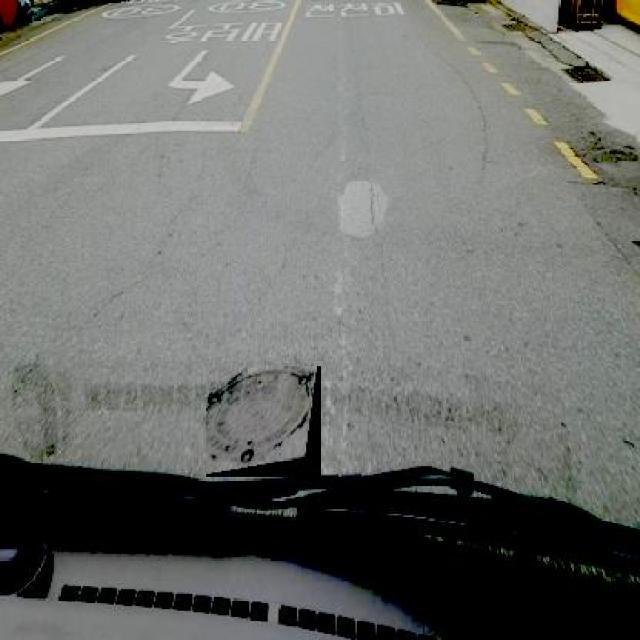Manhole: (207, 366, 321, 477)
Pothole: (0, 361, 75, 454), (575, 126, 634, 172), (590, 180, 640, 198)
